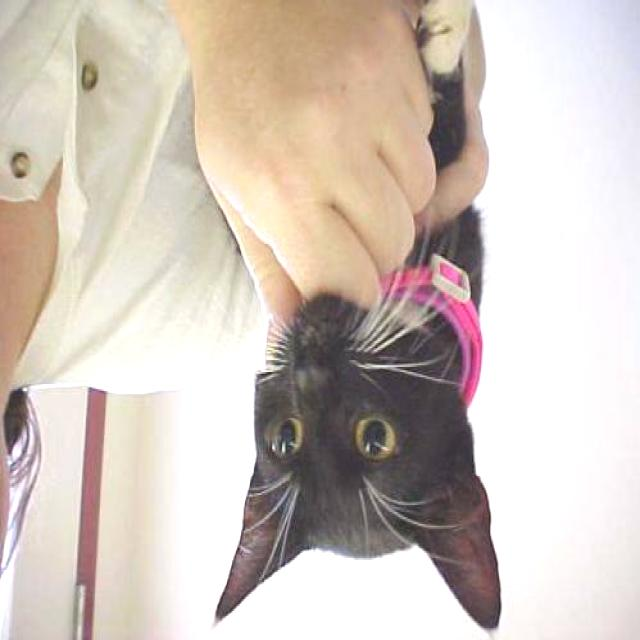Kucing: (187, 254, 599, 640)
